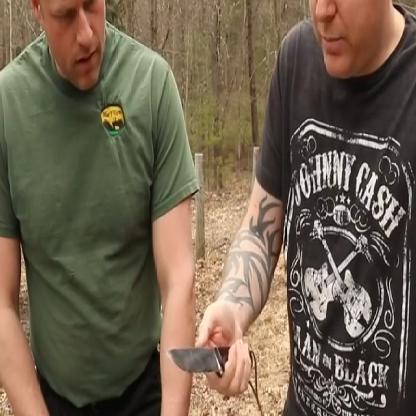knife: (157, 308, 254, 404)
